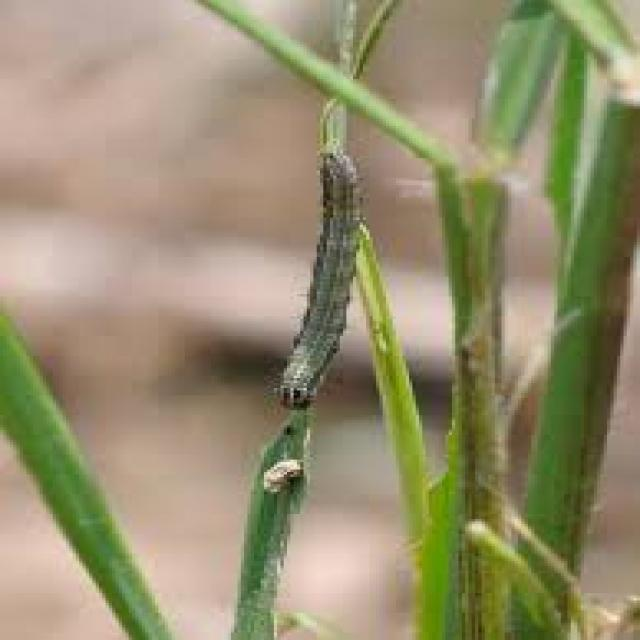armyworm: (283, 149, 369, 412)
